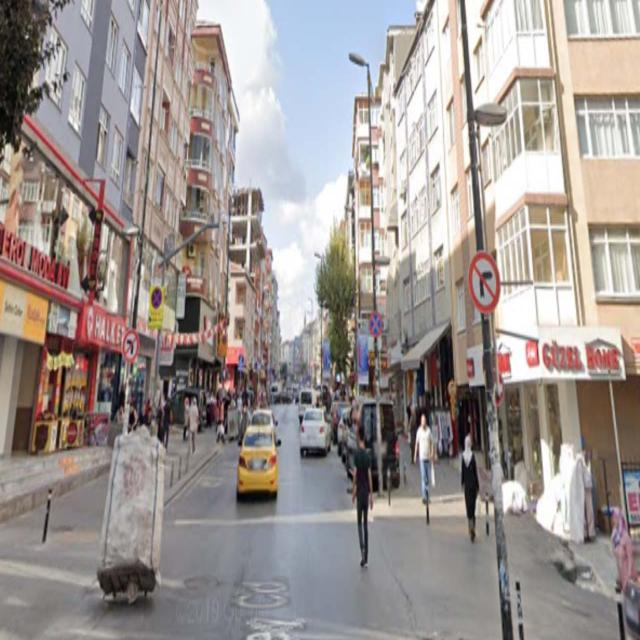sagadonulmez: (468, 251, 502, 317)
soladonulmez: (123, 328, 138, 362)
